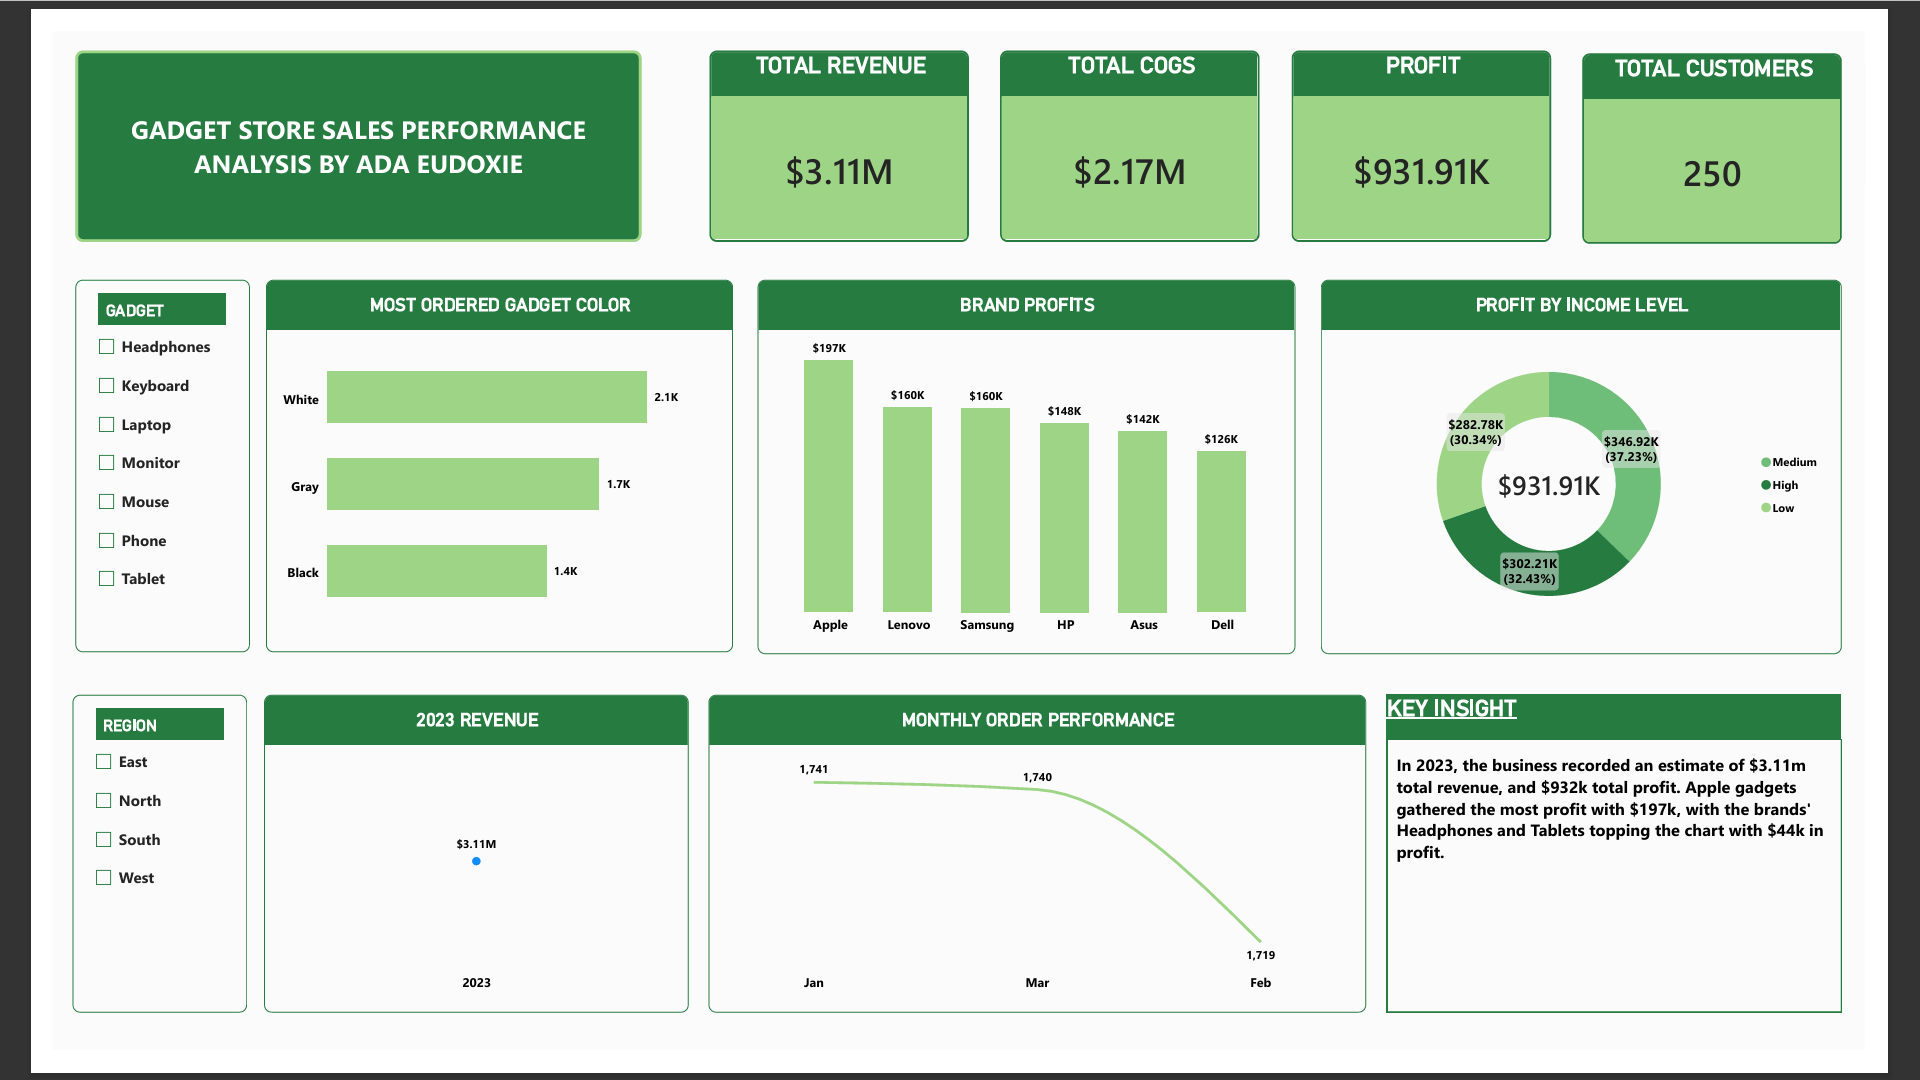

The page's visual inventory and layout, read from the dashboard file:
{"tool":"powerbi","page":{"name":"Page 1","canvas":[1920,1080],"ordinal":0},"visuals":[{"type":"clusteredColumnChart","title":"BRAND PROFITS","fields":{"Category":["Products.Brand"],"Y":["Sum(Sales.Profit)"]},"box":[746.2,262.5,570,397.5],"z":0,"group":"g1"},{"type":"barChart","title":"MOST ORDERED GADGET COLOR","fields":{"Category":["Products.Color"],"Y":["Sales.Total Sales"]},"box":[225,262.5,495,395],"z":1000,"group":"g1"},{"type":"lineChart","title":"MONTHLY ORDER PERFORMANCE","fields":{"Category":["Sales.SaleMonth"],"Y":["Sales.Total Sales"]},"box":[693.8,702.5,697.5,337.5],"z":2000,"group":"g1"},{"type":"lineChart","title":"2023 REVENUE","fields":{"Category":["Sales.SaleYear"],"Y":["Sum(Sales.Revenue)"]},"box":[222.5,702.5,450,337.5],"z":3000,"group":"g1"},{"type":"donutChart","title":"PROFIT BY INCOME LEVEL","fields":{"Category":["Customers.IncomeLevel"],"Y":["Sum(Sales.Profit)"]},"box":[1342.5,262.5,552.5,397.5],"z":4000,"group":"g1"},{"type":"slicer","fields":{"Values":["Products.ProductName"]},"box":[22.5,262.5,185,395],"z":5000,"group":"g1"},{"type":"slicer","fields":{"Values":["Customers.Region"]},"box":[20,702.5,185,337.5],"z":6000,"group":"g1"},{"type":"cardVisual","title":"TOTAL REVENUE","fields":{"Data":["Sales.Total Revenue"]},"box":[695,20,275,202.5],"z":7000,"group":"g1"},{"type":"shape","title":"KEY INSIGHT","box":[1412.5,702.5,482.5,337.5],"z":8000,"group":"g1"},{"type":"shape","box":[22.5,20,600,202.5],"z":9000,"group":"g1"},{"type":"cardVisual","title":"PROFIT","fields":{"Data":["Sum(Sales.Profit)"]},"box":[1311.7,20,275,202.5],"z":10000,"group":"g1"},{"type":"cardVisual","title":"TOTAL COGS","fields":{"Data":["Sum(Sales.COGS)"]},"box":[1003.3,20,275,202.5],"z":11000,"group":"g1"},{"type":"cardVisual","title":"TOTAL CUSTOMERS","fields":{"Data":["Sales.Total Customers"]},"box":[1620,22.5,275,202.5],"z":12000,"group":"g1"},{"type":"group","id":"g1","title":"Group 1","box":[20,20,1875,1020],"z":12001}]}

Visuals, with their boxes in screenshot pixels (x1, y1, x2, y2), scaled from the page's 1920x1080 canvas onto the 1920x1080 screenshot:
"BRAND PROFITS" clusteredColumnChart: x1=746, y1=262, x2=1316, y2=660
"MOST ORDERED GADGET COLOR" barChart: x1=225, y1=262, x2=720, y2=658
"MONTHLY ORDER PERFORMANCE" lineChart: x1=694, y1=702, x2=1391, y2=1040
"2023 REVENUE" lineChart: x1=222, y1=702, x2=672, y2=1040
"PROFIT BY INCOME LEVEL" donutChart: x1=1342, y1=262, x2=1895, y2=660
slicer - Products.ProductName: x1=22, y1=262, x2=208, y2=658
slicer - Customers.Region: x1=20, y1=702, x2=205, y2=1040
"TOTAL REVENUE" cardVisual: x1=695, y1=20, x2=970, y2=222
"KEY INSIGHT" shape: x1=1412, y1=702, x2=1895, y2=1040
shape: x1=22, y1=20, x2=622, y2=222
"PROFIT" cardVisual: x1=1312, y1=20, x2=1587, y2=222
"TOTAL COGS" cardVisual: x1=1003, y1=20, x2=1278, y2=222
"TOTAL CUSTOMERS" cardVisual: x1=1620, y1=22, x2=1895, y2=225
"Group 1" group: x1=20, y1=20, x2=1895, y2=1040
